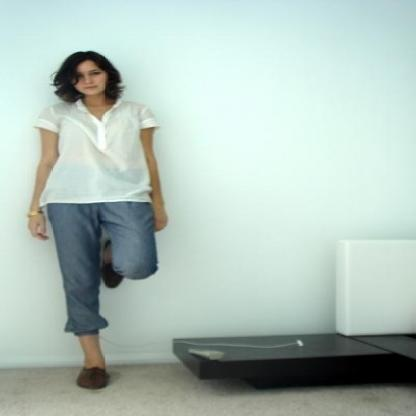pants: (47, 201, 159, 336)
shirt: (40, 92, 164, 205)
shoe: (77, 264, 123, 389)
